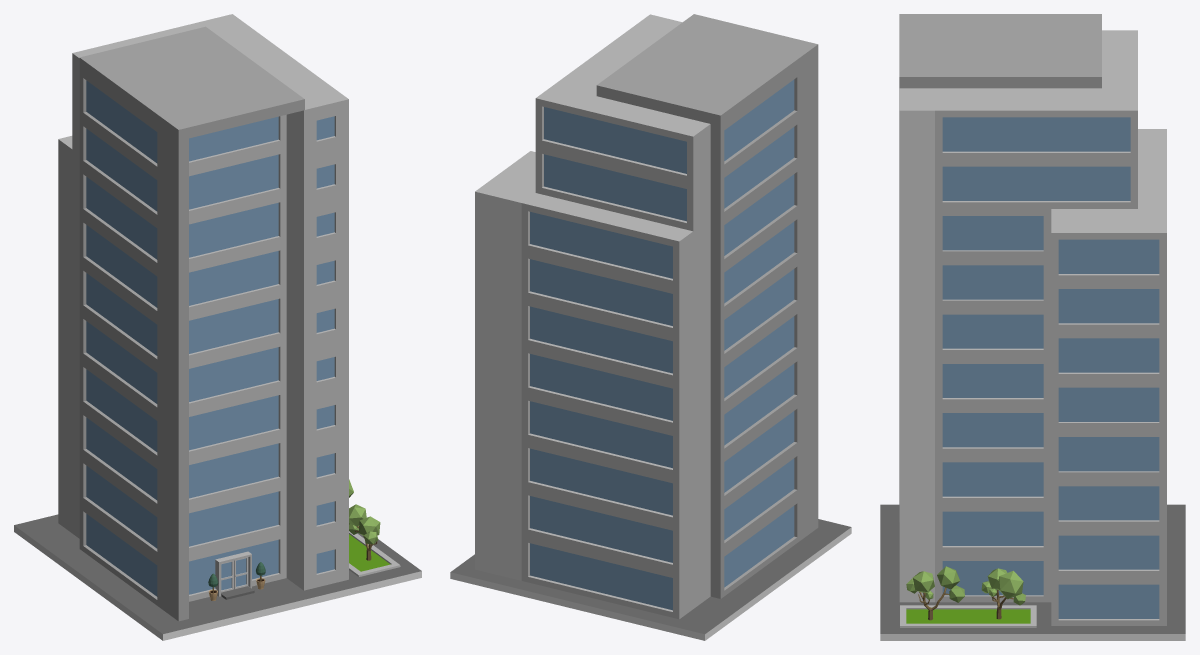
Rendered from Office Building Lvl 2.gltf.
3 renders of one model, left to right at view 1: azimuth 30°, elevation 25°; view 2: azimuth 150°, elevation 25°; view 3: azimuth 270°, elevation 25°, orthographic. The views are drawn at different scales.
Visible parts, largest first — view 1: office building 2, BAZA 2x2.005, ulazna vrata zgrade.002, zelena povrsina.001, Tree 4.001; view 2: office building 2, BAZA 2x2.005; view 3: office building 2, BAZA 2x2.005, zelena povrsina.001, Tree 4.001, Tree 3.001.
Part boxes in pixels (<box>): office building 2: <box>58,14,348,621</box>; BAZA 2x2.005: <box>14,514,421,640</box>; ulazna vrata zgrade.002: <box>215,551,254,599</box>; zelena povrsina.001: <box>349,531,400,576</box>; Tree 4.001: <box>349,504,380,560</box>; office building 2: <box>475,14,818,619</box>; BAZA 2x2.005: <box>450,519,851,640</box>; office building 2: <box>899,14,1166,625</box>; BAZA 2x2.005: <box>880,504,1185,640</box>; zelena povrsina.001: <box>900,605,1036,627</box>; Tree 4.001: <box>906,566,964,620</box>; Tree 3.001: <box>981,568,1025,619</box>.
Size of the model in its own units: 4.02 by 7.38 by 4.
